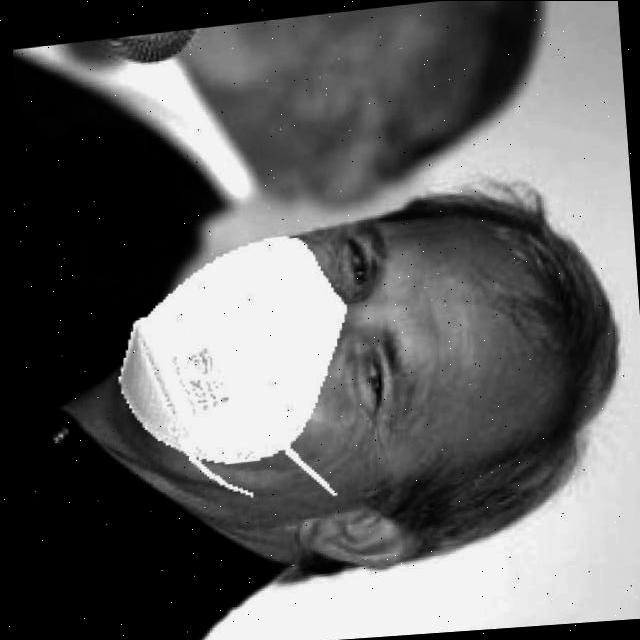mask: (110, 235, 362, 460)
no_gloves: (464, 156, 620, 497)
